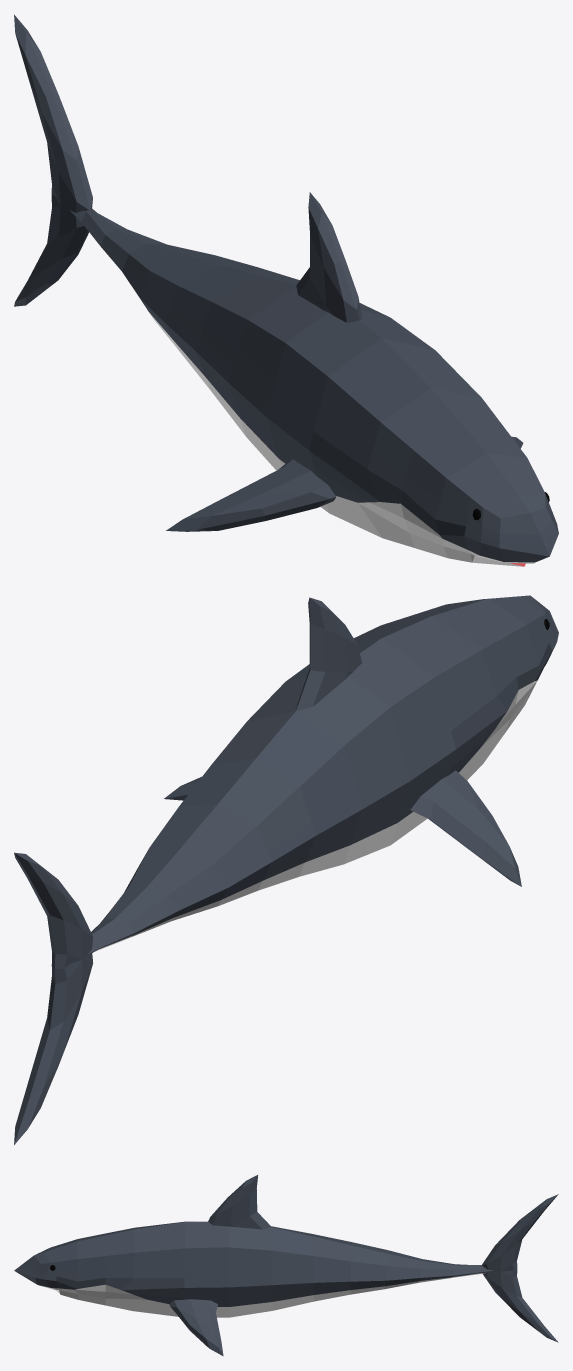
The model's file is Shark.fbx.
The picture shows the model from 3 angles, top to bottom: view 1: azimuth 30°, elevation 25°; view 2: azimuth 150°, elevation 25°; view 3: azimuth 270°, elevation 25°; orthographic projection. The views are drawn at different scales.
Visible parts, largest first — view 1: Cube.005; view 2: Cube.005; view 3: Cube.005.
Boxes of the visible parts, box(x1,y1,x2,y2) form: Cube.005: box(14, 14, 558, 566); Cube.005: box(14, 595, 558, 1144); Cube.005: box(14, 1175, 558, 1356).
Bounding box in the file's own units: 539 × 476 × 1395.
